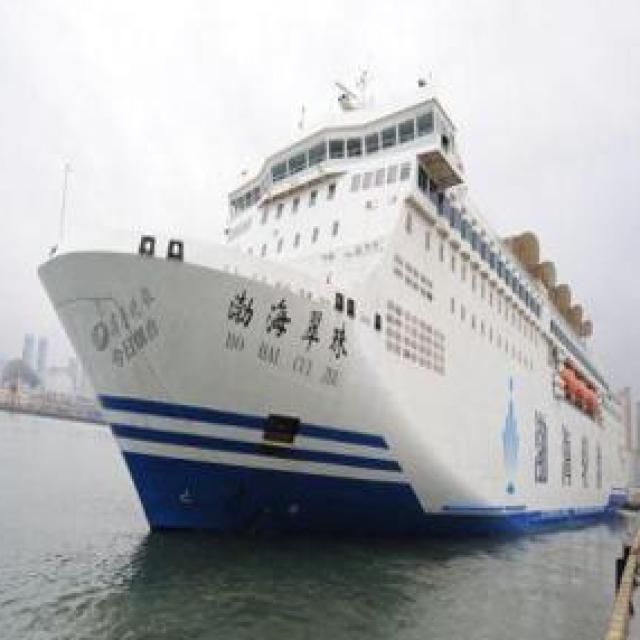passenger ship: (35, 89, 627, 521)
